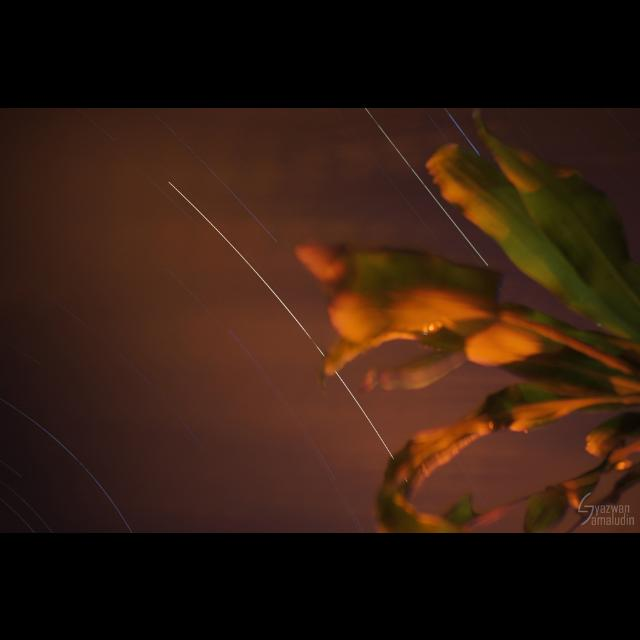Flower: (293, 236, 571, 388)
